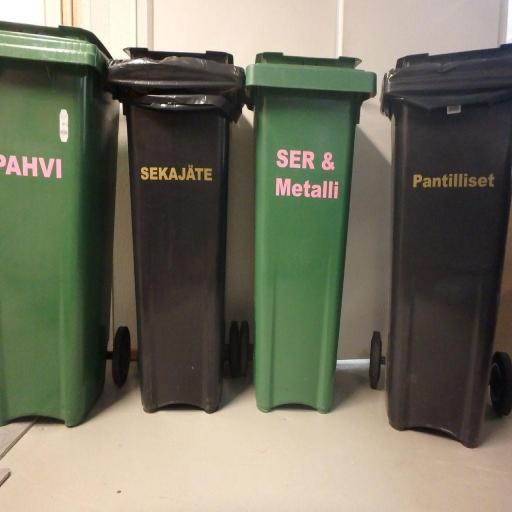trash-can: (98, 14, 250, 420)
